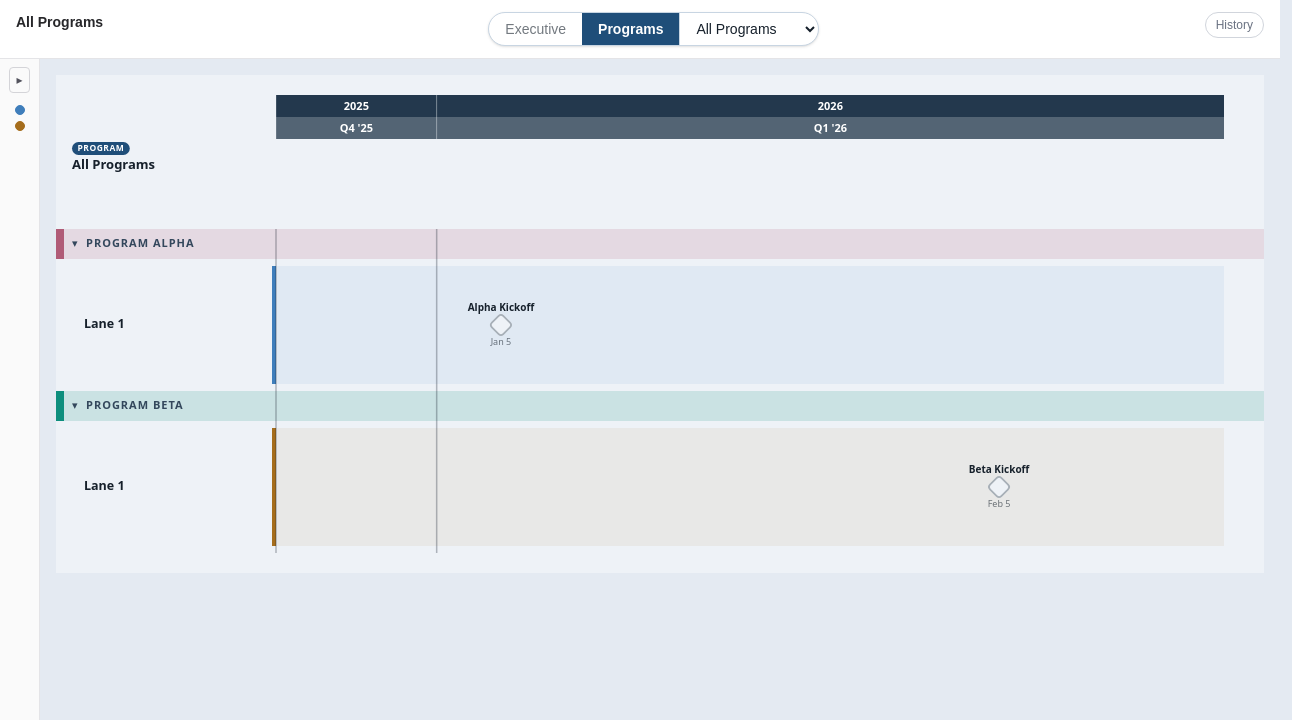
AllProgramsPage — the Program rail (wayframe#126, #125's Variant B) › gives a viewer no structure editing at all
This screenshot has width=1292, height=720.
Click the button named "Open the Programs rail": (20,80) [10,67,30,93]
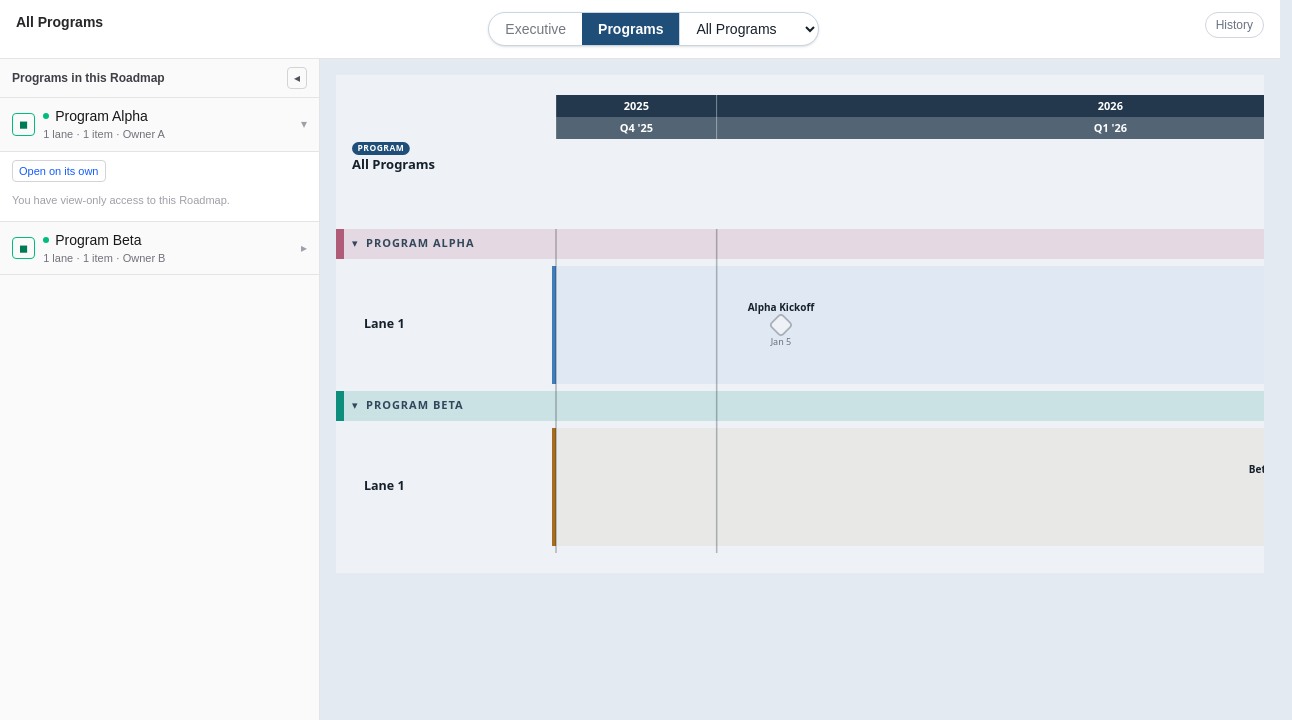
Expected: the text "You have view-only access to this Roadmap." is shown, [12,194,230,206]
